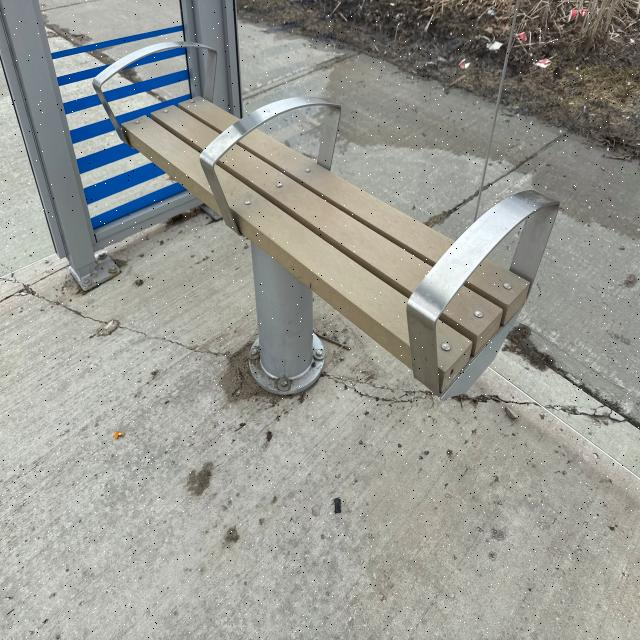Bench: (76, 46, 556, 405)
